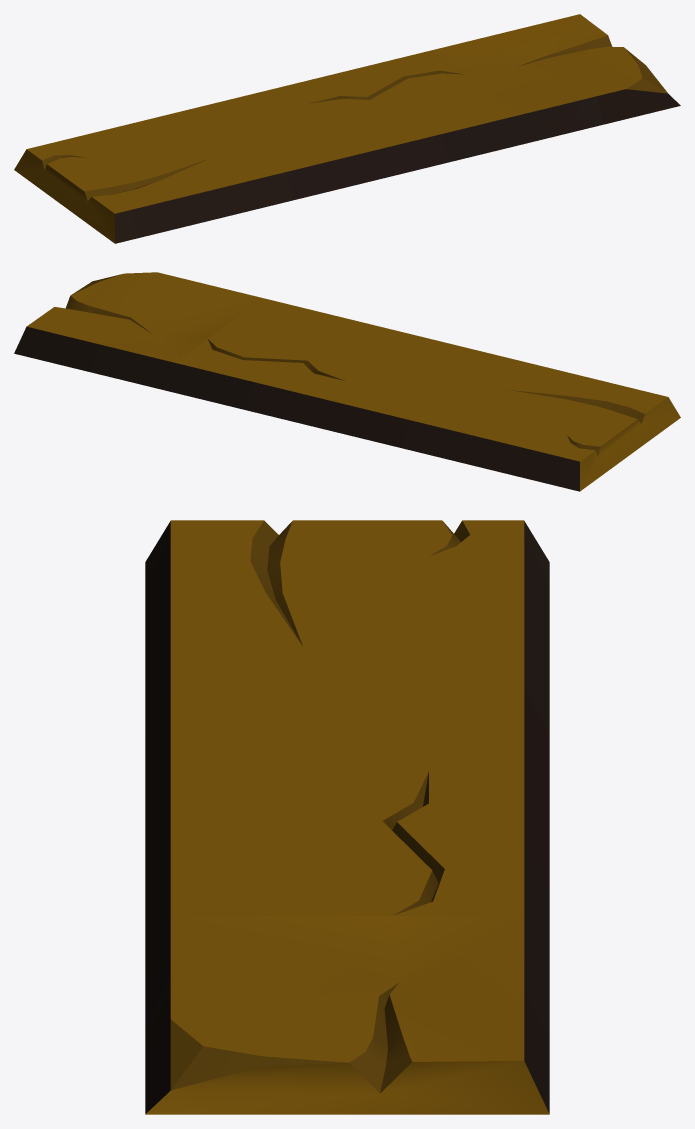
File: SM_plankButton.fbx
3 views of the same model, one above another, from view 1: azimuth 30°, elevation 25°; view 2: azimuth 150°, elevation 25°; view 3: azimuth 270°, elevation 25° (orthographic). The views are drawn at different scales.
Visible parts, largest first — view 1: plankButton_SM; view 2: plankButton_SM; view 3: plankButton_SM.
Boxes of the visible parts, x1=… form: plankButton_SM: x1=14, y1=14, x2=680, y2=243; plankButton_SM: x1=14, y1=272, x2=680, y2=491; plankButton_SM: x1=145, y1=520, x2=549, y2=1114.
Size of the model in its own units: 181 by 7.29 by 55.95.
1 material, 1 textured.
